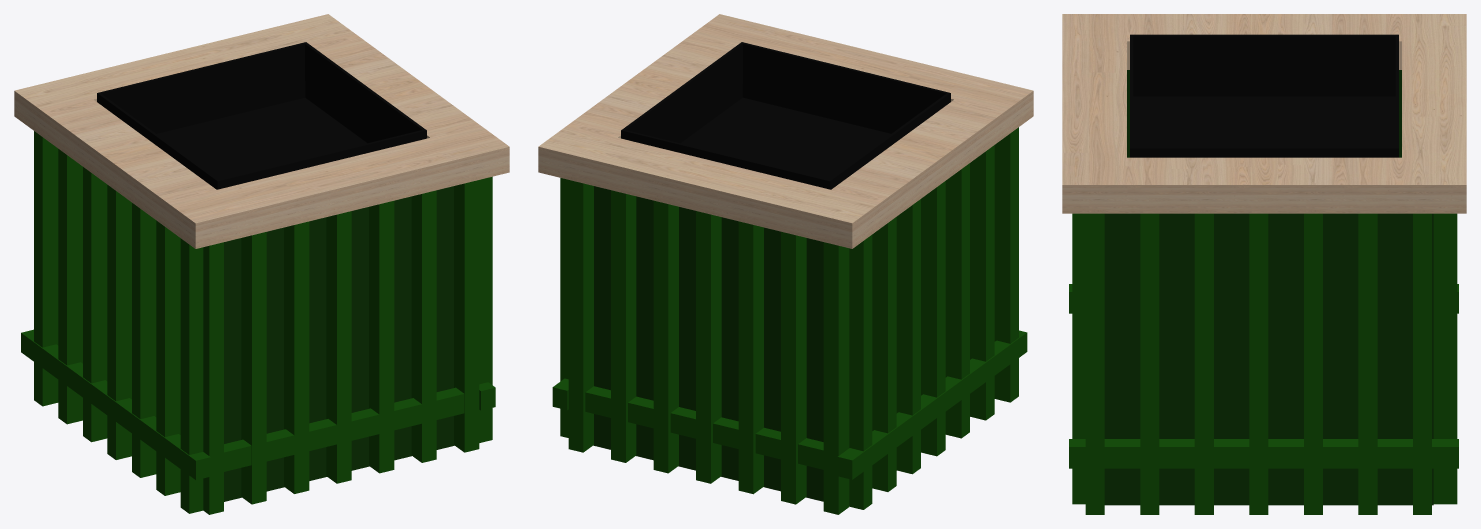
File: bin counter.fbx
The picture shows the model from 3 angles, left to right: view 1: azimuth 30°, elevation 25°; view 2: azimuth 150°, elevation 25°; view 3: azimuth 270°, elevation 25°; orthographic projection. The views are drawn at different scales.
Visible parts, largest first — view 1: Cube.002, Cube.001, Plane, Cube; view 2: Cube.002, Cube.001, Plane, Cube; view 3: Cube.002, Cube, Cube.001, Plane.
Part boxes in pixels (box(x1,y1,x2,y2)): Cube.002: box(21, 131, 495, 514); Cube.001: box(14, 14, 509, 248); Plane: box(97, 42, 426, 189); Cube: box(224, 186, 454, 501); Cube.002: box(552, 127, 1027, 514); Cube.001: box(538, 14, 1033, 248); Plane: box(621, 42, 950, 189); Cube: box(593, 186, 823, 501); Cube.002: box(1069, 213, 1458, 514); Cube: box(1104, 70, 1433, 505); Cube.001: box(1062, 14, 1466, 213); Plane: box(1130, 34, 1398, 157).
Bounding box in the file's own units: 239 × 223 × 239.
